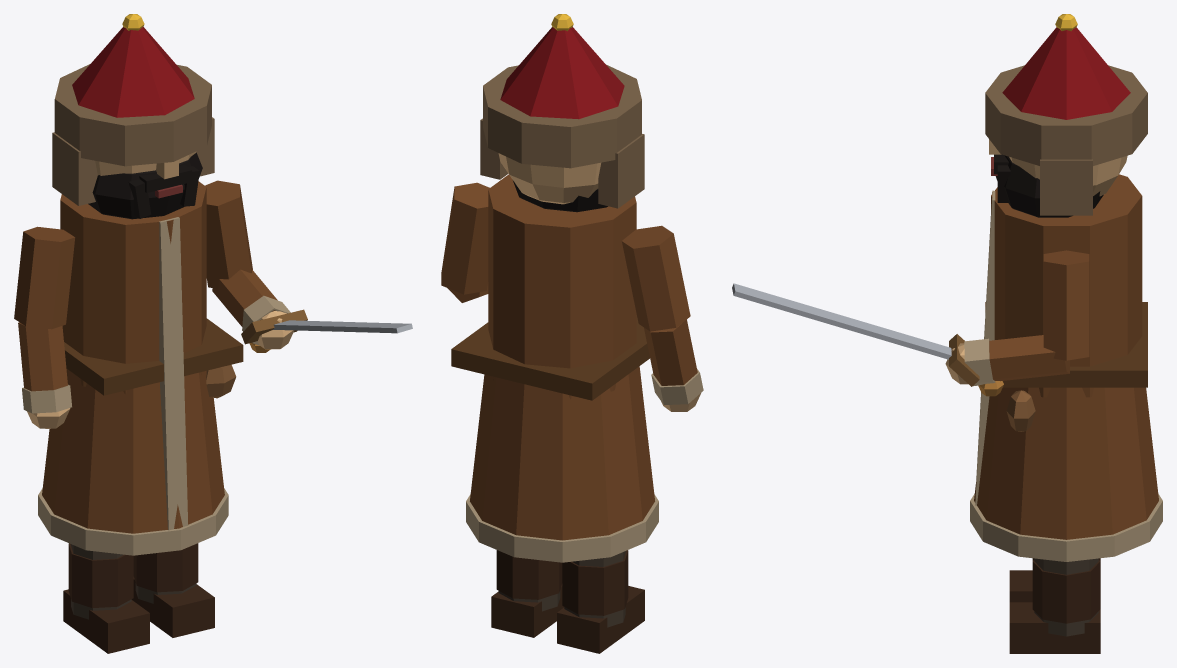
The model's file is attyla.glb.
The picture shows the model from 3 angles, left to right: view 1: azimuth 30°, elevation 25°; view 2: azimuth 150°, elevation 25°; view 3: azimuth 270°, elevation 25°; orthographic projection.
Visible parts, largest first — view 1: cialo, glowa, reka_l, reka_p, noga_l, noga_p; view 2: cialo, glowa, reka_l, noga_l, noga_p, reka_p; view 3: cialo, glowa, reka_p, noga_p, noga_l.
Part boxes in pixels (left/top/right/bottom): cialo: left=38, top=181, right=243, bottom=555; glowa: left=52, top=14, right=214, bottom=219; reka_l: left=14, top=226, right=75, bottom=428; reka_p: left=205, top=180, right=412, bottom=352; noga_l: left=63, top=543, right=149, bottom=653; noga_p: left=131, top=543, right=214, bottom=637; cialo: left=451, top=174, right=658, bottom=562; glowa: left=480, top=14, right=644, bottom=212; reka_l: left=622, top=225, right=703, bottom=411; noga_l: left=557, top=550, right=644, bottom=653; noga_p: left=491, top=550, right=563, bottom=637; reka_p: left=441, top=182, right=489, bottom=302; cialo: left=970, top=174, right=1162, bottom=561; glowa: left=985, top=14, right=1147, bottom=217; reka_p: left=732, top=250, right=1089, bottom=396; noga_p: left=1009, top=558, right=1100, bottom=653; noga_l: left=1009, top=558, right=1100, bottom=602.
Size of the model in its own units: 0.7408 by 1.79 by 1.14.
